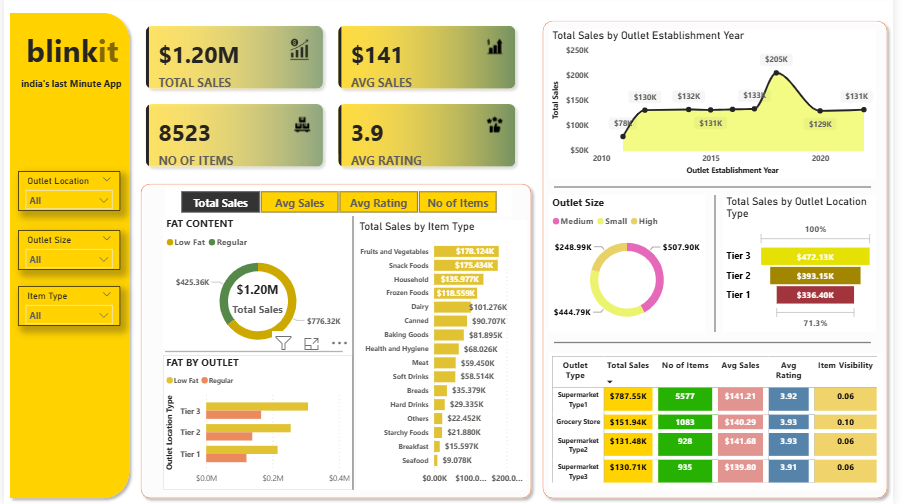

Layout of this report page (visuals, bound fields, positions):
{"tool":"powerbi","page":{"name":"Page 1","canvas":[1400,800],"ordinal":0},"visuals":[{"type":"shape","box":[0,17.3,206.3,782.7],"z":0},{"type":"textbox","box":[22,122.8,171.7,58.3],"z":1000},{"type":"textbox","box":[22,52,171.7,70.9],"z":2000},{"type":"cardVisual","fields":{"Data":["BlinkIT Grocery Data.Total Sales","BlinkIT Grocery Data.Avg Sales","BlinkIT Grocery Data.No of Items","BlinkIT Grocery Data.Avg Rating"]},"box":[206.3,29.9,617.3,256.7],"z":3000},{"type":"shape","box":[206.3,286.6,633.1,513.4],"z":4000},{"type":"donutChart","title":"FAT CONTENT","fields":{"Y":["BlinkIT Grocery Data.Total Sales"],"Category":["BlinkIT Grocery Data.Item Fat Content"]},"box":[250.4,346.5,299.2,218.9],"z":5000},{"type":"slicer","fields":{"Values":["Metrics.Metrics"]},"box":[253.5,300.8,546.5,45.7],"z":6000},{"type":"card","fields":{"Values":["BlinkIT Grocery Data.Total Sales"]},"box":[349.6,445.7,99.2,58.3],"z":7000},{"type":"clusteredBarChart","title":"FAT BY OUTLET","fields":{"Y":["BlinkIT Grocery Data.Total Sales"],"Category":["BlinkIT Grocery Data.Outlet Location Type"],"Series":["BlinkIT Grocery Data.Item Fat Content"]},"box":[250.4,565.4,299.2,212.6],"z":8000},{"type":"shape","box":[253.5,543.3,280.3,33.1],"z":9000},{"type":"shape","box":[505.5,346.5,88.2,431.5],"z":10000},{"type":"barChart","fields":{"Y":["BlinkIT Grocery Data.Total Sales"],"Category":["BlinkIT Grocery Data.Item Type"]},"box":[554.3,352.8,269.3,425.2],"z":11000},{"type":"shape","box":[839.4,29.9,560.6,770.1],"z":12000},{"type":"lineChart","fields":{"Category":["BlinkIT Grocery Data.Outlet Establishment Year"],"Y":["BlinkIT Grocery Data.Total Sales"]},"box":[858.3,52,515,234.6],"z":13000},{"type":"shape","box":[866.1,530.7,499.2,29.9],"z":14000},{"type":"donutChart","title":"Outlet Size","fields":{"Y":["BlinkIT Grocery Data.Total Sales"],"Category":["BlinkIT Grocery Data.Outlet Size"]},"box":[858.3,313.4,245.7,217.3],"z":15000},{"type":"shape","box":[1075.6,313.4,88.2,215.7],"z":16000},{"type":"funnel","fields":{"Y":["BlinkIT Grocery Data.Total Sales"],"Category":["BlinkIT Grocery Data.Outlet Location Type"]},"box":[1132.3,313.4,240.9,215.7],"z":17000},{"type":"shape","box":[866.1,294.5,499.2,12.6],"z":18000},{"type":"pivotTable","fields":{"Rows":["BlinkIT Grocery Data.Outlet Type"],"Values":["BlinkIT Grocery Data.Total Sales","BlinkIT Grocery Data.No of Items","BlinkIT Grocery Data.Avg Sales","BlinkIT Grocery Data.Avg Rating","Avg(BlinkIT Grocery Data.Item Visibility)"]},"box":[858.3,562.2,526,215.7],"z":19000},{"type":"slicer","fields":{"Values":["BlinkIT Grocery Data.Outlet Location Type"]},"box":[22,275.6,160.6,63],"z":20000},{"type":"slicer","fields":{"Values":["BlinkIT Grocery Data.Outlet Size"]},"box":[22,368.5,160.6,63],"z":21000},{"type":"slicer","fields":{"Values":["BlinkIT Grocery Data.Item Type"]},"box":[22,456.7,160.6,63],"z":22000}]}

Visuals, with their boxes in screenshot pixels (x1, y1, x2, y2), scaled from the page's 1400x800 canvas onto the 903x504 screenshot:
shape: bbox=(0, 11, 133, 503)
textbox: bbox=(14, 77, 125, 114)
textbox: bbox=(14, 33, 125, 77)
cardVisual - BlinkIT Grocery Data.Total Sales x BlinkIT Grocery Data.Avg Sales: bbox=(133, 19, 531, 181)
shape: bbox=(133, 181, 541, 503)
"FAT CONTENT" donutChart: bbox=(162, 218, 354, 356)
slicer - Metrics.Metrics: bbox=(164, 190, 516, 218)
card - BlinkIT Grocery Data.Total Sales: bbox=(225, 281, 289, 318)
"FAT BY OUTLET" clusteredBarChart: bbox=(162, 356, 354, 490)
shape: bbox=(164, 342, 344, 363)
shape: bbox=(326, 218, 383, 490)
barChart - BlinkIT Grocery Data.Total Sales x BlinkIT Grocery Data.Item Type: bbox=(358, 222, 531, 490)
shape: bbox=(541, 19, 902, 503)
lineChart - BlinkIT Grocery Data.Outlet Establishment Year x BlinkIT Grocery Data.Total Sales: bbox=(554, 33, 886, 181)
shape: bbox=(559, 334, 881, 353)
"Outlet Size" donutChart: bbox=(554, 197, 712, 334)
shape: bbox=(694, 197, 751, 333)
funnel - BlinkIT Grocery Data.Total Sales x BlinkIT Grocery Data.Outlet Location Type: bbox=(730, 197, 886, 333)
shape: bbox=(559, 186, 881, 193)
pivotTable - BlinkIT Grocery Data.Outlet Type x BlinkIT Grocery Data.Total Sales: bbox=(554, 354, 893, 490)
slicer - BlinkIT Grocery Data.Outlet Location Type: bbox=(14, 174, 118, 213)
slicer - BlinkIT Grocery Data.Outlet Size: bbox=(14, 232, 118, 272)
slicer - BlinkIT Grocery Data.Item Type: bbox=(14, 288, 118, 327)
